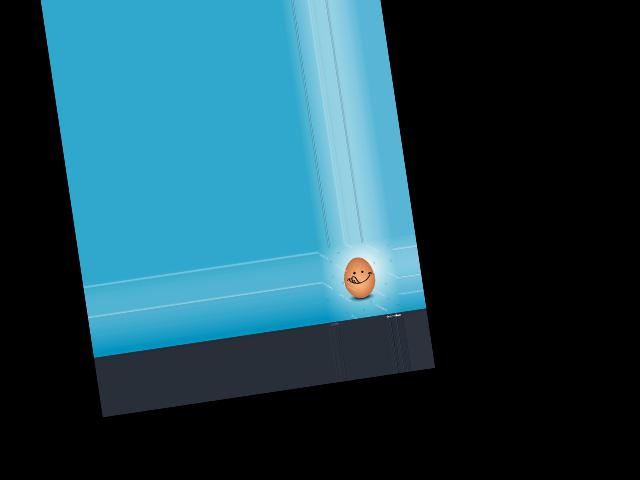egg: (340, 255, 377, 300)
